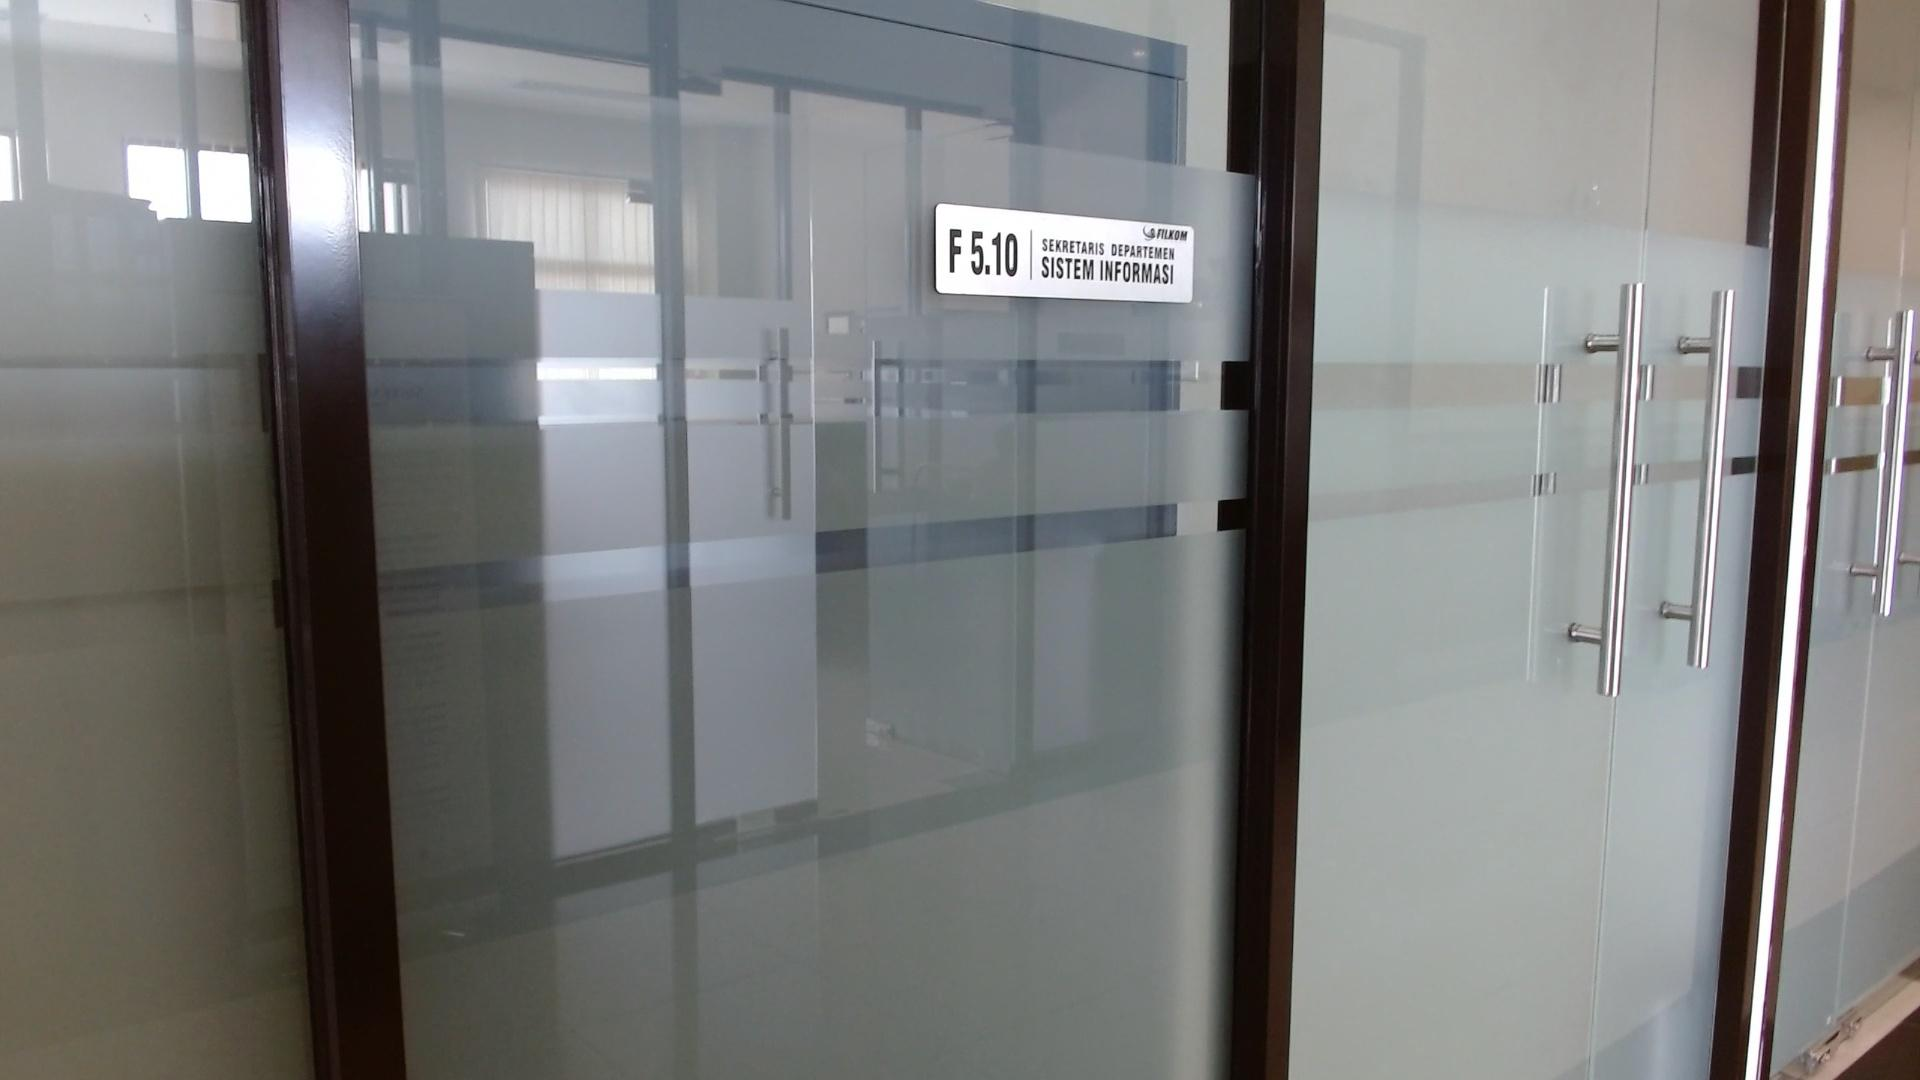plate: (935, 203, 1193, 306)
